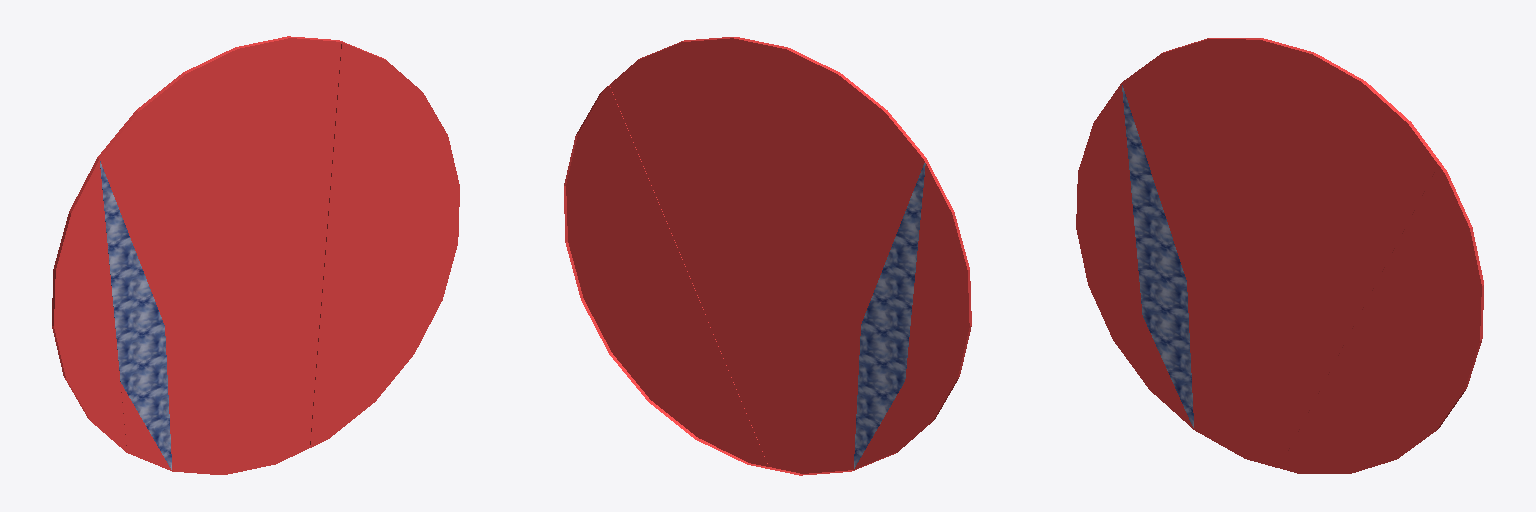
The picture shows the model from 3 angles: view 1: azimuth 30°, elevation 25°; view 2: azimuth 150°, elevation 25°; view 3: azimuth 330°, elevation 25°; orthographic projection.
Visible parts, largest first — view 1: Layer_Layer0, Translucent_Glass_Sky_Reflection; view 2: Layer_Layer0, Translucent_Glass_Sky_Reflection; view 3: Layer_Layer0, Translucent_Glass_Sky_Reflection.
Part boxes in pixels (bbox=[...]): Layer_Layer0: bbox=[52, 36, 459, 474]; Translucent_Glass_Sky_Reflection: bbox=[100, 161, 171, 469]; Layer_Layer0: bbox=[564, 37, 971, 475]; Translucent_Glass_Sky_Reflection: bbox=[854, 163, 925, 468]; Layer_Layer0: bbox=[1076, 38, 1483, 473]; Translucent_Glass_Sky_Reflection: bbox=[1122, 85, 1193, 427].
Size of the model in its own units: 24594 by 24594 by 288.
2 materials, 1 textured.